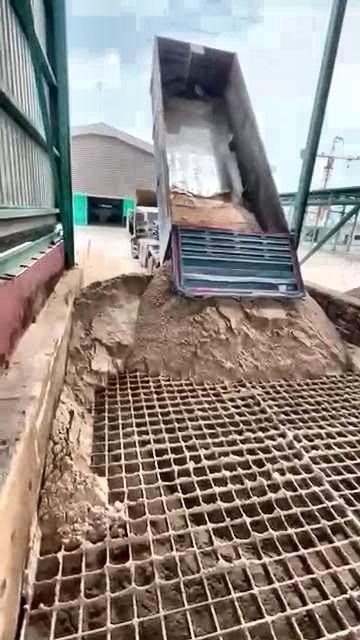sand: (40, 265, 348, 550), (172, 191, 260, 231), (348, 344, 360, 373)
